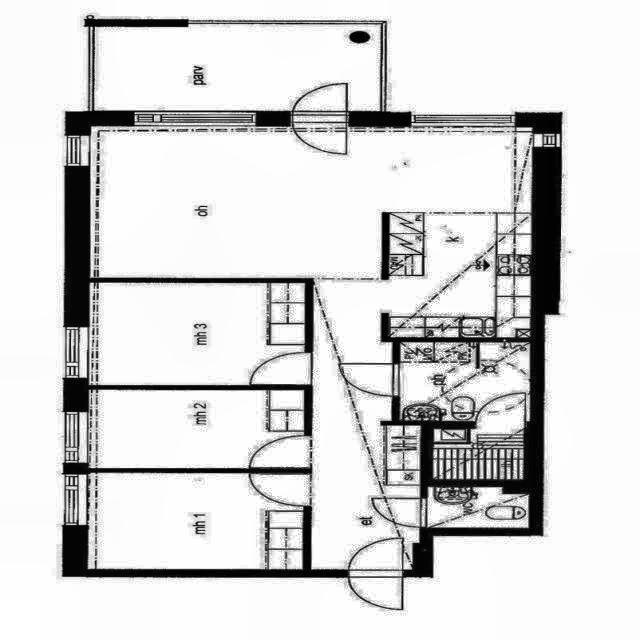room: (90, 283, 304, 385), (88, 473, 303, 570), (89, 390, 304, 468), (400, 342, 530, 421), (433, 428, 524, 479), (427, 487, 529, 528)
